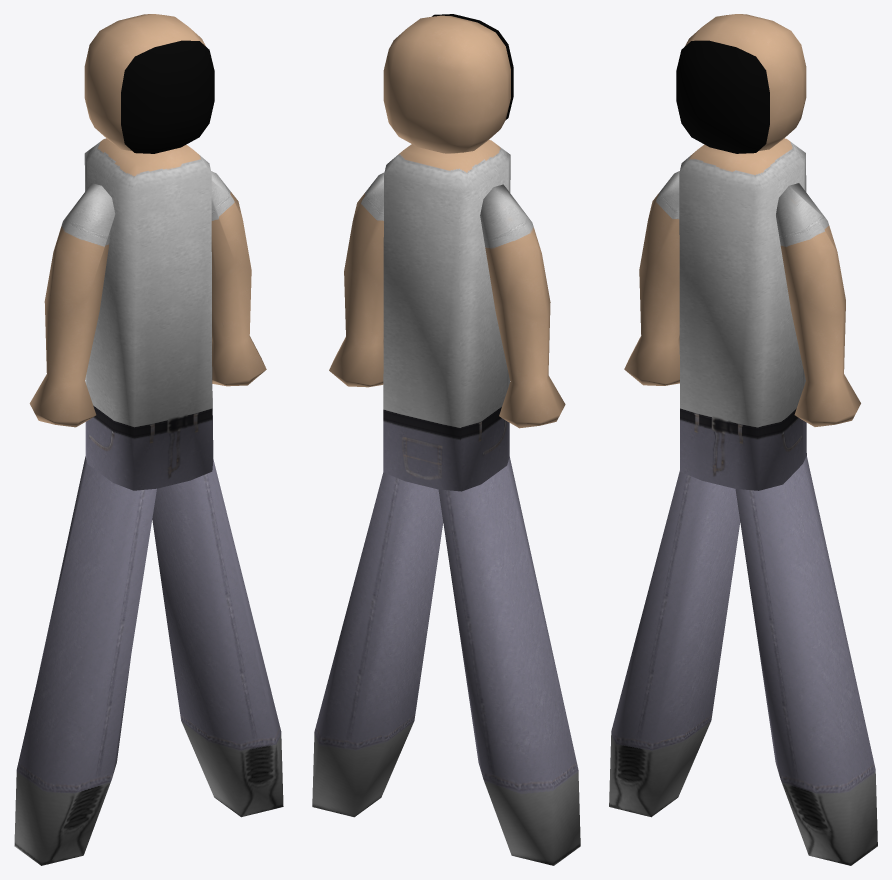
Rendered from character.obj.
3 views of the same model, side by side, from view 1: azimuth 30°, elevation 25°; view 2: azimuth 150°, elevation 25°; view 3: azimuth 330°, elevation 25° (orthographic).
Parts seen in each view (by area): view 1: body, leg_left, leg_right, arm_left, face, arm_right, head; view 2: body, leg_left, leg_right, head, arm_left, arm_right; view 3: body, leg_right, leg_left, arm_right, face, arm_left, head.
Part boxes in pixels (x1,y1,x2,y2): body: (84,138,213,490); leg_left: (14,456,156,865); leg_right: (152,459,283,817); arm_left: (29,183,115,427); face: (121,40,214,153); arm_right: (211,171,266,386); head: (84,14,205,151); body: (383,140,510,491); leg_left: (438,457,580,865); leg_right: (312,472,443,817); head: (383,15,510,153); arm_left: (480,184,565,428); arm_right: (329,172,384,387); body: (679,138,806,490); leg_right: (735,456,877,865); leg_left: (609,471,740,817); arm_right: (776,183,860,426); face: (676,40,769,153); arm_left: (624,171,679,385); head: (685,14,806,150).
Size of what is drawn, in the model's own units: 0.5198 by 1.65 by 0.21.
